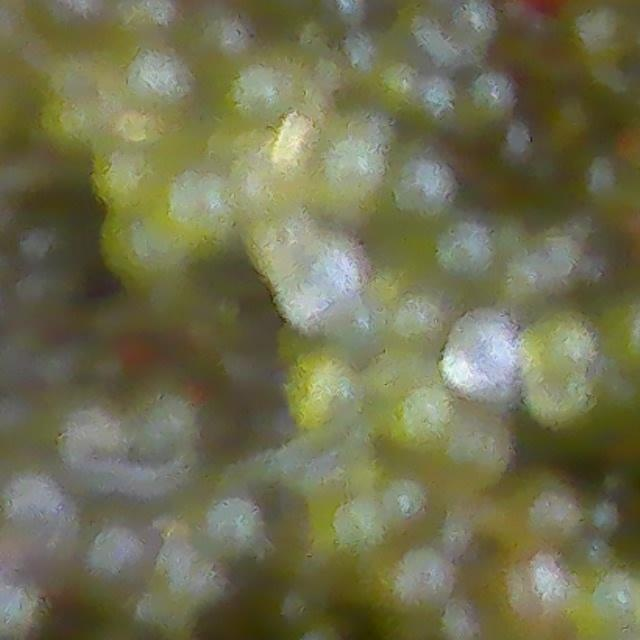SeaGrape: (437, 307, 528, 400), (271, 235, 361, 322), (72, 516, 147, 594), (195, 491, 265, 563)
